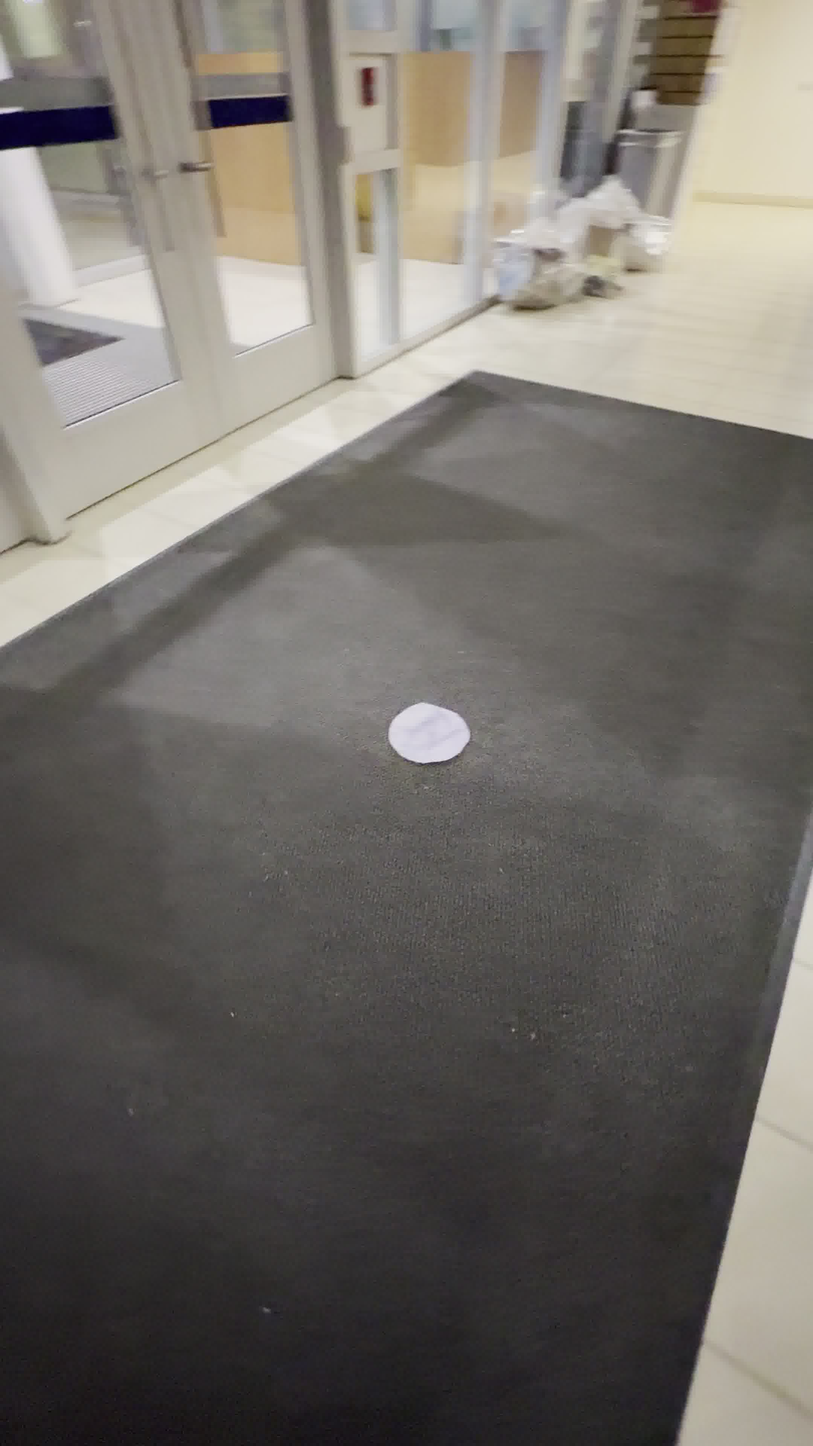Target: (387, 702, 471, 764)
